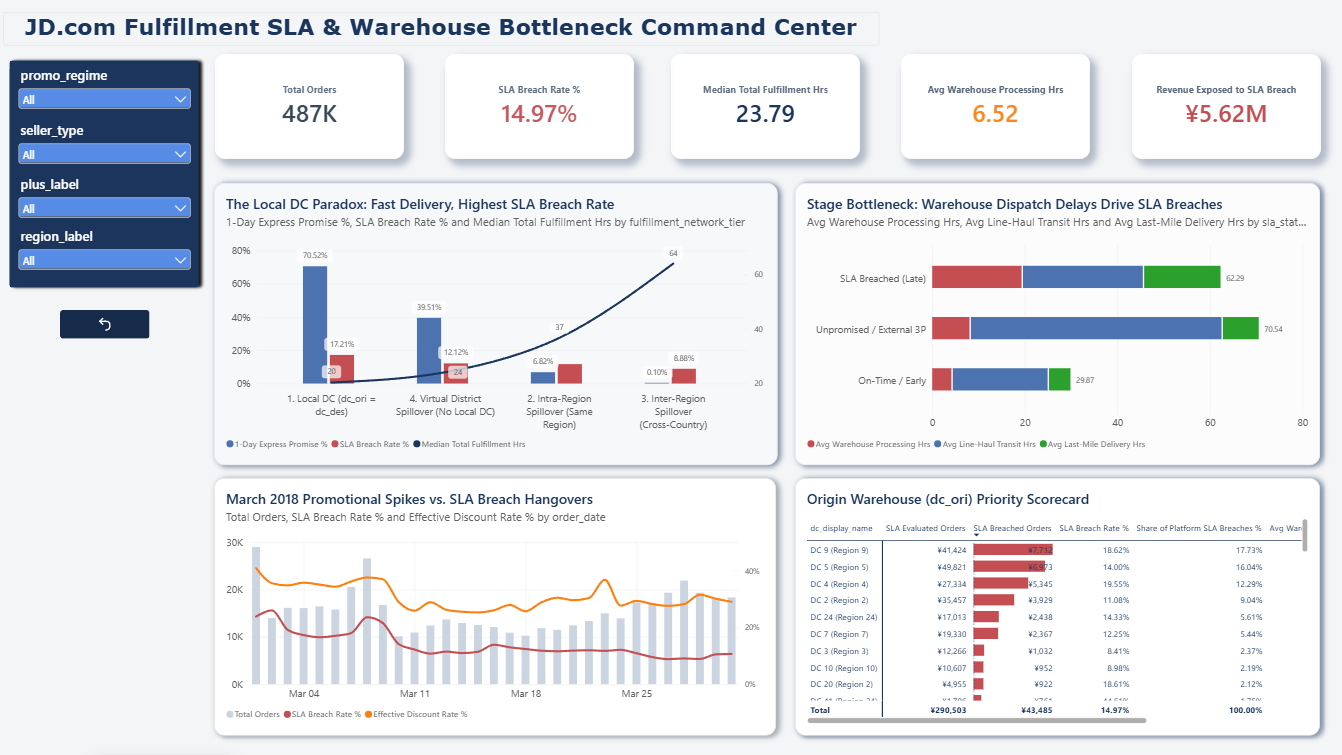

What the dashboard file says about the page in this screenshot:
{"tool":"powerbi","page":{"name":"1. SLA Command Center","canvas":[1920,1080],"ordinal":0},"visuals":[{"type":"textbox","box":[5,18.3,1251.7,48.3],"z":0},{"type":"shape","box":[5.7,78.6,288.6,342.8],"z":0,"group":"g1"},{"type":"cardVisual","fields":{"Data":["_Measures.Median Total Fulfillment Hrs"]},"box":[960,78.3,270,150],"z":1000},{"type":"slicer","fields":{"Values":["dim_date.promo_regime"]},"box":[22.1,95.7,255.7,77.6],"z":2000,"group":"g2"},{"type":"lineClusteredColumnComboChart","title":"The Local DC Paradox: Fast Delivery, Highest SLA Breach Rate","fields":{"Category":["fact_orders_pbi.fulfillment_network_tier"],"Y":["_Measures.1-Day Express Promise %","_Measures.SLA Breach Rate %"],"Y2":["_Measures.Median Total Fulfillment Hrs"]},"box":[307.5,262.5,805,402.5],"z":2000},{"type":"slicer","fields":{"Values":["fact_orders_pbi.seller_type"]},"box":[22.1,174.2,255.7,77.6],"z":3000,"group":"g2"},{"type":"barChart","title":"Stage Bottleneck: Warehouse Dispatch Delays Drive SLA Breaches","fields":{"Category":["fact_orders_pbi.sla_status_label"],"Y":["_Measures.Avg Warehouse Processing Hrs","_Measures.Avg Line-Haul Transit Hrs","_Measures.Avg Last-Mile Delivery Hrs"]},"box":[1137.5,262.5,750,402.5],"z":3000},{"type":"slicer","fields":{"Values":["dim_customers_pbi.plus_label"]},"box":[22.1,250.9,255.7,77.6],"z":4000,"group":"g2"},{"type":"lineStackedColumnComboChart","title":"March 2018 Promotional Spikes vs. SLA Breach Hangovers","fields":{"Category":["dim_date.order_date"],"Y":["_Measures.Total Orders"],"Y2":["_Measures.SLA Breach Rate %","_Measures.Effective Discount Rate %"]},"box":[307.5,685,802.5,367.5],"z":4000},{"type":"slicer","fields":{"Values":["dim_network.region_label"]},"box":[22.1,326,255.7,77.6],"z":5000,"group":"g2"},{"type":"pivotTable","title":"Origin Warehouse (dc_ori) Priority Scorecard","fields":{"Rows":["dim_network.dc_display_name"],"Values":["_Measures.SLA Evaluated Orders","_Measures.SLA Breached Orders","_Measures.SLA Breach Rate %","_Measures.Share of Platform SLA Breaches %","_Measures.Avg Warehouse Processing Hrs","_Measures.Cross-DC Spillover Rate %"]},"box":[1137.5,685,750,367.5],"z":5000},{"type":"cardVisual","fields":{"Data":["_Measures.Avg Warehouse Processing Hrs"]},"box":[1288.3,78.3,270,150],"z":6000},{"type":"cardVisual","fields":{"Data":["_Measures.Revenue Exposed to SLA Breach"]},"box":[1618.3,78.3,270,150],"z":7000},{"type":"cardVisual","fields":{"Data":["_Measures.SLA Breach Rate %"]},"box":[636.7,78.3,270,150],"z":8000},{"type":"cardVisual","fields":{"Data":["_Measures.Total Orders"]},"box":[308.3,78.3,270,150],"z":9000},{"type":"group","id":"g1","title":"Group 2","box":[5.7,78.6,288.6,407.1],"z":10000},{"type":"actionButton","title":"Clear Filters","box":[86.3,444.9,127.8,40.9],"z":15000,"group":"g2"},{"type":"group","id":"g2","title":"Group 1","box":[22.1,95.7,255.7,390.1],"z":15001,"group":"g1"}]}

Visuals, with their boxes in screenshot pixels (x1, y1, x2, y2), scaled from the page's 1920x1080 canvas onto the 1342x755 screenshot:
textbox: <box>3,13,878,47</box>
shape: <box>4,55,206,295</box>
cardVisual - _Measures.Median Total Fulfillment Hrs: <box>671,55,860,160</box>
slicer - dim_date.promo_regime: <box>15,67,194,121</box>
"The Local DC Paradox: Fast Delivery, Highest SLA Breach Rate" lineClusteredColumnComboChart: <box>215,184,778,465</box>
slicer - fact_orders_pbi.seller_type: <box>15,122,194,176</box>
"Stage Bottleneck: Warehouse Dispatch Delays Drive SLA Breaches" barChart: <box>795,184,1319,465</box>
slicer - dim_customers_pbi.plus_label: <box>15,175,194,230</box>
"March 2018 Promotional Spikes vs. SLA Breach Hangovers" lineStackedColumnComboChart: <box>215,479,776,736</box>
slicer - dim_network.region_label: <box>15,228,194,282</box>
"Origin Warehouse (dc_ori) Priority Scorecard" pivotTable: <box>795,479,1319,736</box>
cardVisual - _Measures.Avg Warehouse Processing Hrs: <box>900,55,1089,160</box>
cardVisual - _Measures.Revenue Exposed to SLA Breach: <box>1131,55,1320,160</box>
cardVisual - _Measures.SLA Breach Rate %: <box>445,55,634,160</box>
cardVisual - _Measures.Total Orders: <box>215,55,404,160</box>
"Group 2" group: <box>4,55,206,340</box>
"Clear Filters" actionButton: <box>60,311,150,340</box>
"Group 1" group: <box>15,67,194,340</box>
